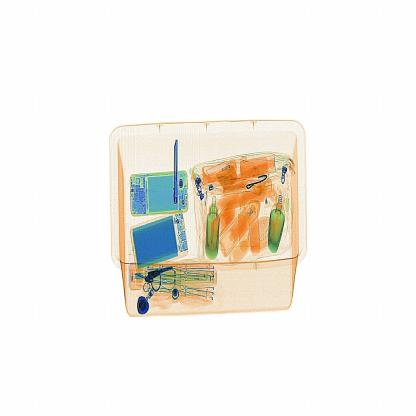pliers: (160, 133, 186, 208)
